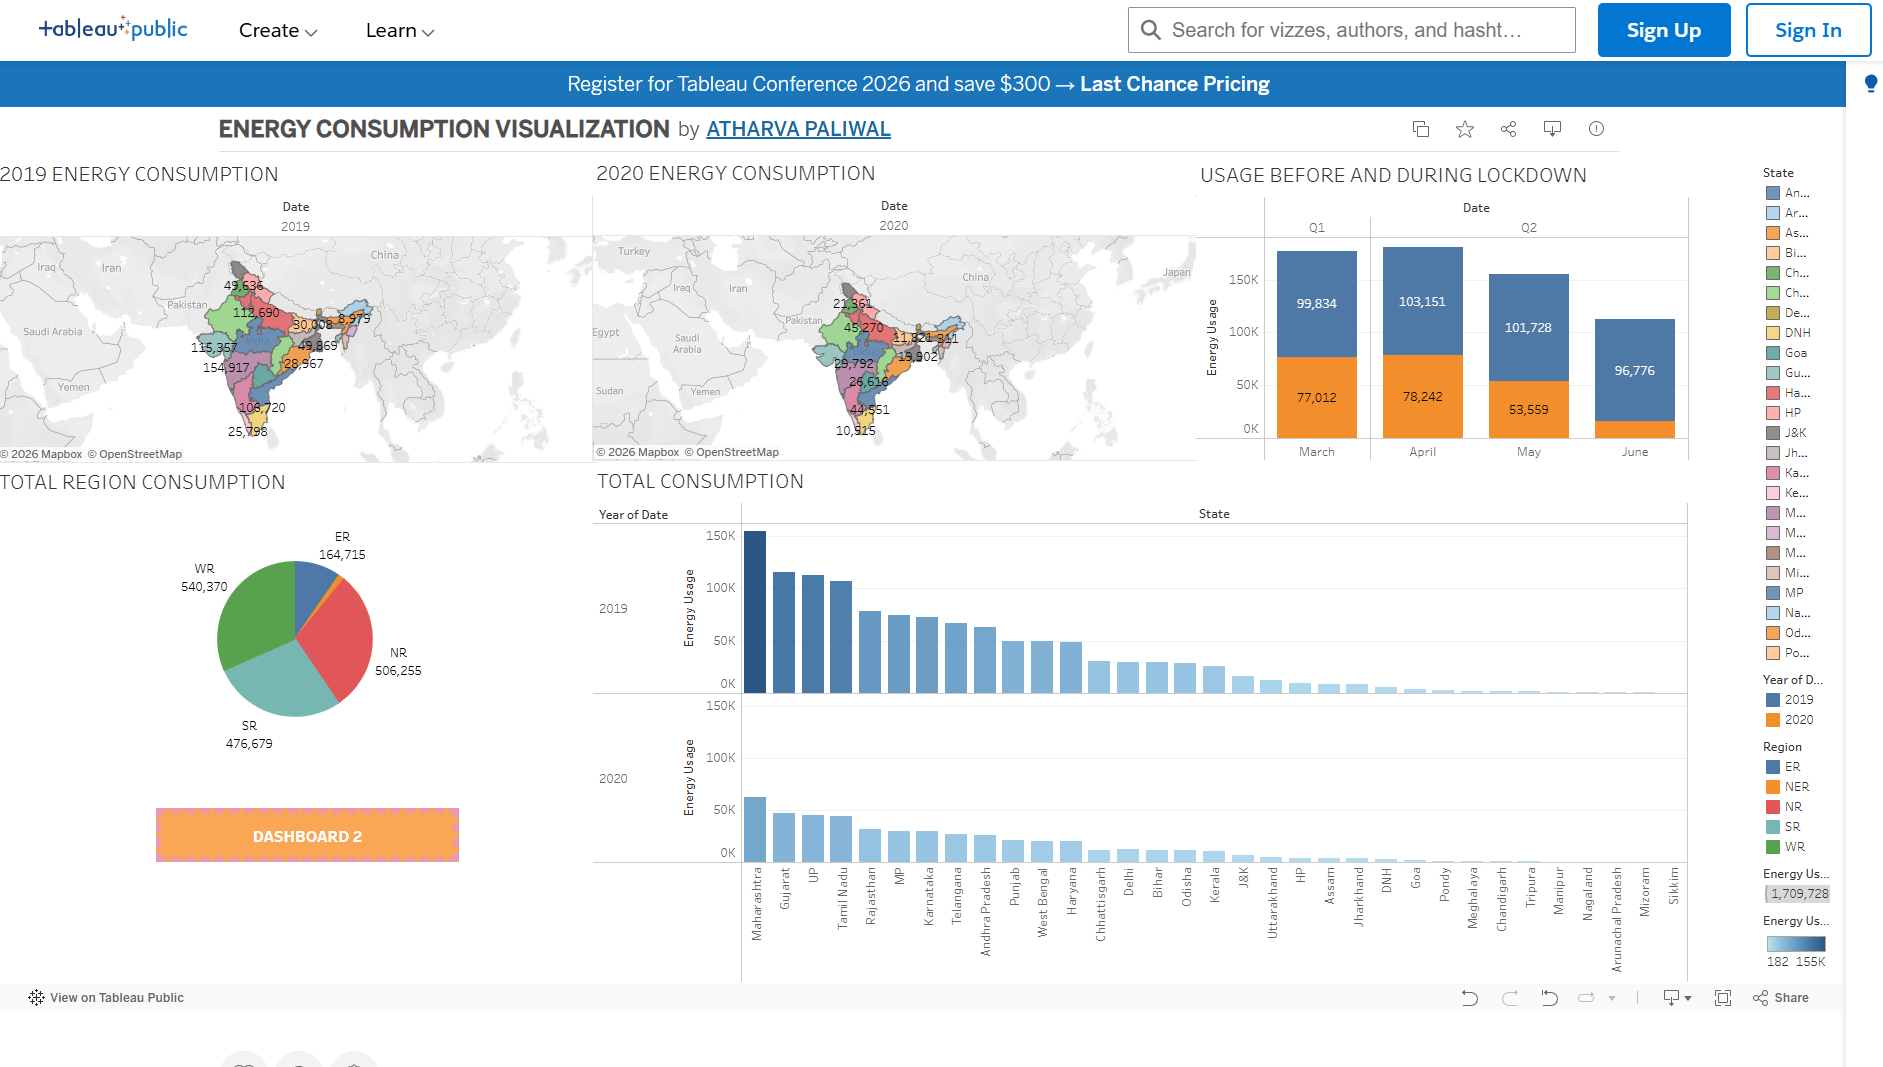

The page's visual inventory and layout, read from the dashboard file:
{"tool":"tableau","page":{"name":"Dashboard 1","canvas":[1000,1000],"units":"permille","ordinal":0},"visuals":[{"type":"worksheet","title":"2020 ENERGY CONSUMPTION","mark":"Multipolygon","rows":["Latitude"],"cols":["Date","Longitude"],"box":[323,0,328,371.2]},{"type":"worksheet","title":"2019 ENERGY CONSUMPTION","mark":"Multipolygon","rows":["Latitude"],"cols":["Date","Longitude"],"box":[0,1.2,326,372.5]},{"type":"worksheet","title":"USAGE BEFORE AND DURING LOCKDOWN","mark":"Bar","rows":["Energy_Usage"],"cols":["Date","Date"],"box":[650,2.5,267,368.8]},{"type":"legend","title":"2019 ENERGY CONSUMPTION","param":"[federated.0mn6zz11gk0i8i1eq4oh012q122a].[none:State:nk]","box":[919,12.4,73.2,504.7]},{"type":"worksheet","title":"TOTAL CONSUMPTION","mark":"Bar","rows":["Date","Energy_Usage"],"cols":["State"],"box":[324,370,593,628.8]},{"type":"worksheet","title":"TOTAL REGION CONSUMPTION","mark":"Pie","box":[0,371.2,325,376.2]},{"type":"legend","title":"USAGE BEFORE AND DURING LOCKDOWN","param":"[federated.0mn6zz11gk0i8i1eq4oh012q122a].[yr:Date:ok]","box":[919,517.1,73.2,102.5]},{"type":"legend","title":"TOTAL REGION CONSUMPTION","param":"[federated.0mn6zz11gk0i8i1eq4oh012q122a].[none:Region:nk]","box":[919,619.6,73.2,195.7]},{"type":"dashboard-object","box":[87,788.8,164,65]},{"type":"legend","title":"TOTAL REGION CONSUMPTION","param":"[federated.0mn6zz11gk0i8i1eq4oh012q122a].[sum:Energy_Usage:qk]","box":[919,815.2,73.2,71.4]},{"type":"legend","title":"TOTAL CONSUMPTION","param":"[federated.0mn6zz11gk0i8i1eq4oh012q122a].[sum:Energy_Usage:qk]","box":[919,886.6,73.2,100.9]}]}

Visuals, with their boxes on the dashboard's canvas, which has no fixed pixel size, in thousandths of its width and height (x1, y1, x2, y2). These are canvas units, not pixel positions in the 1883x1067 screenshot, which may show the page scaled, cropped or inside an application window:
"2020 ENERGY CONSUMPTION" worksheet (Multipolygon marks): <bbox>323, 0, 651, 371</bbox>
"2019 ENERGY CONSUMPTION" worksheet (Multipolygon marks): <bbox>0, 1, 326, 374</bbox>
"USAGE BEFORE AND DURING LOCKDOWN" worksheet (Bar marks): <bbox>650, 2, 917, 371</bbox>
"2019 ENERGY CONSUMPTION" legend: <bbox>919, 12, 992, 517</bbox>
"TOTAL CONSUMPTION" worksheet (Bar marks): <bbox>324, 370, 917, 999</bbox>
"TOTAL REGION CONSUMPTION" worksheet (Pie marks): <bbox>0, 371, 325, 747</bbox>
"USAGE BEFORE AND DURING LOCKDOWN" legend: <bbox>919, 517, 992, 620</bbox>
"TOTAL REGION CONSUMPTION" legend: <bbox>919, 620, 992, 815</bbox>
dashboard-object: <bbox>87, 789, 251, 854</bbox>
"TOTAL REGION CONSUMPTION" legend: <bbox>919, 815, 992, 887</bbox>
"TOTAL CONSUMPTION" legend: <bbox>919, 887, 992, 988</bbox>
